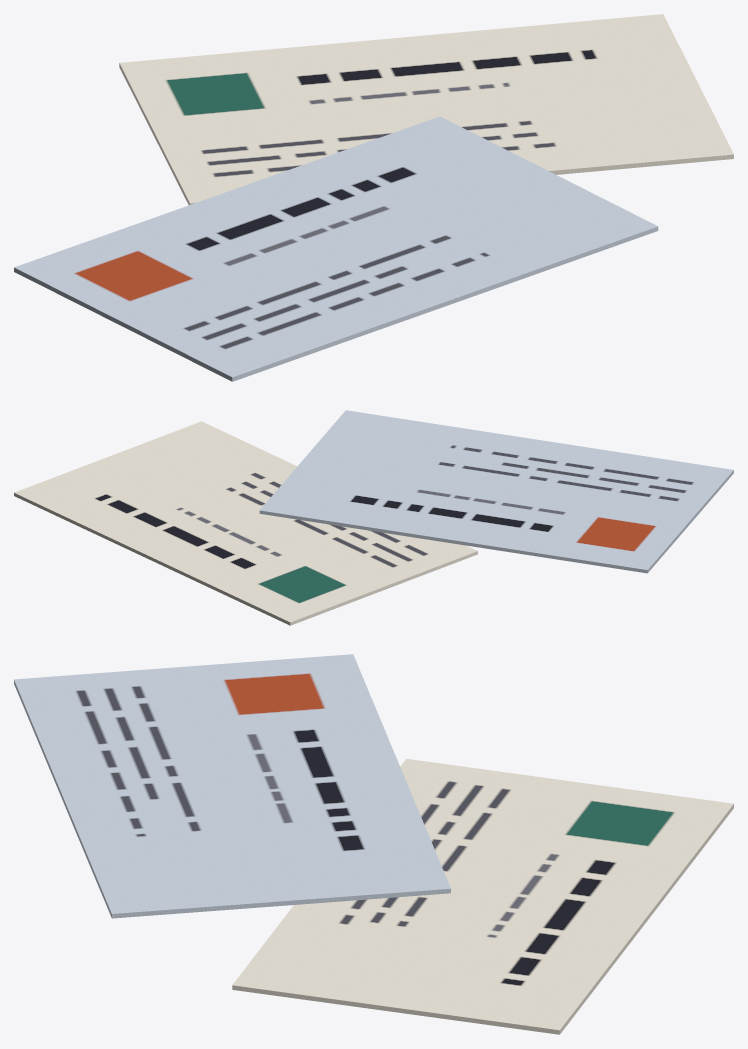
The model's file is escena.casa.tarjetas_presentacion.fbx.
The picture shows the model from 3 angles, top to bottom: view 1: azimuth 30°, elevation 25°; view 2: azimuth 150°, elevation 25°; view 3: azimuth 270°, elevation 25°; orthographic projection. The views are drawn at different scales.
Visible parts, largest first — view 1: Otra tarjeta, Tarjeta de presentación; view 2: Otra tarjeta, Tarjeta de presentación; view 3: Otra tarjeta, Tarjeta de presentación.
Part boxes in pixels (left/top/right/bottom): Otra tarjeta: left=14, top=116, right=658, bottom=381; Tarjeta de presentación: left=119, top=14, right=733, bottom=205; Otra tarjeta: left=259, top=410, right=733, bottom=573; Tarjeta de presentación: left=14, top=421, right=477, bottom=625; Otra tarjeta: left=14, top=654, right=450, bottom=918; Tarjeta de presentación: left=232, top=758, right=733, bottom=1034.
Bounding box in the file's own units: 0.1404 × 0.0016 × 0.115.
Materials: 2 (2 with a texture image).
